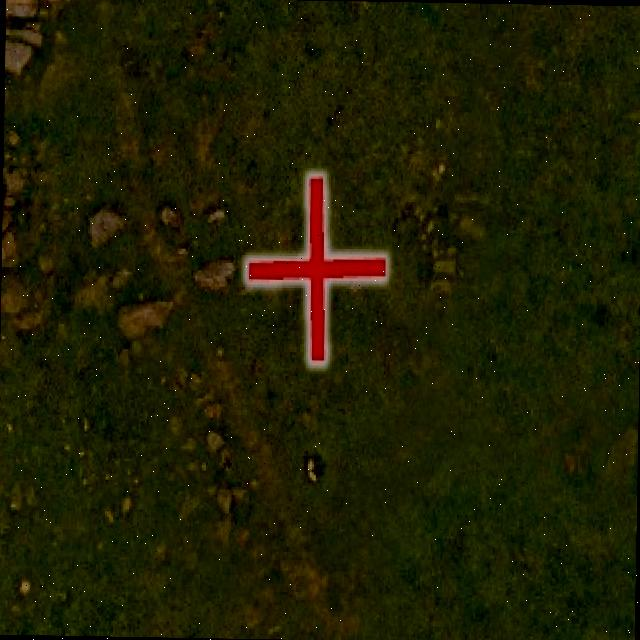x_marker: (244, 174, 386, 362)
